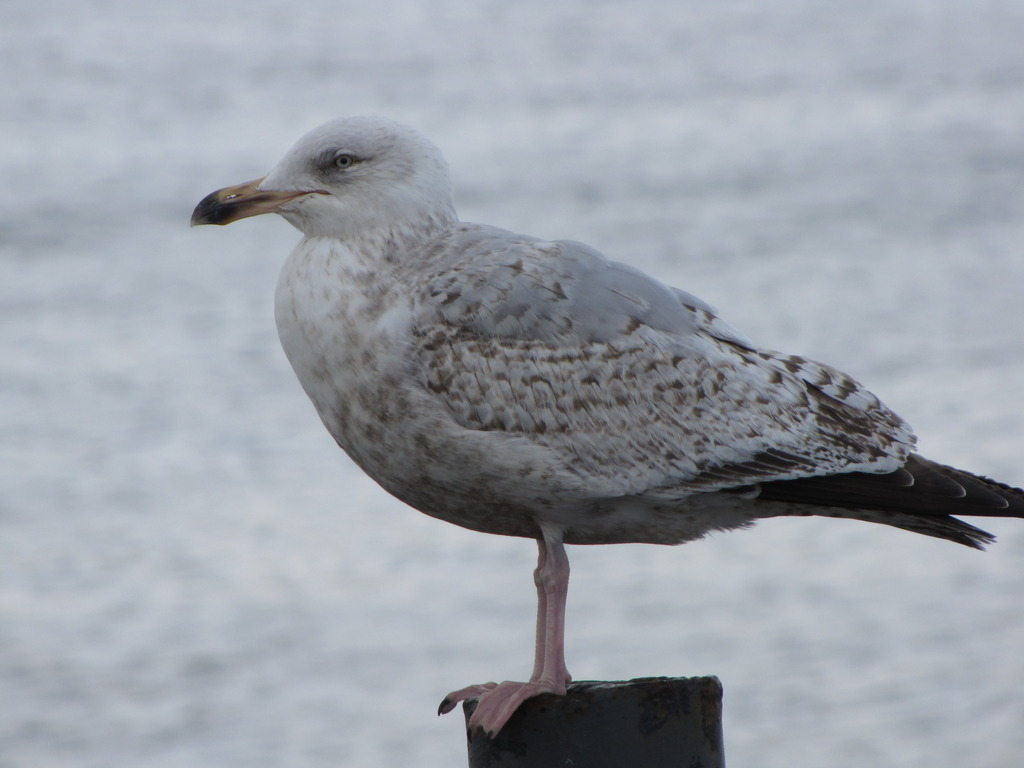Bird: (189, 114, 1024, 755)
